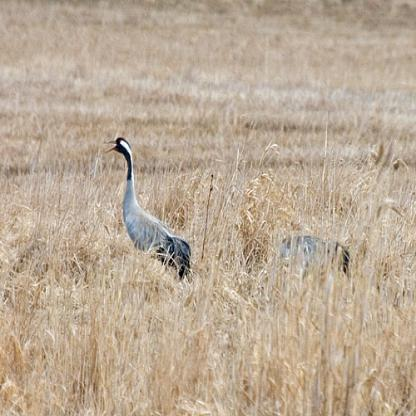bird: (101, 137, 191, 283)
